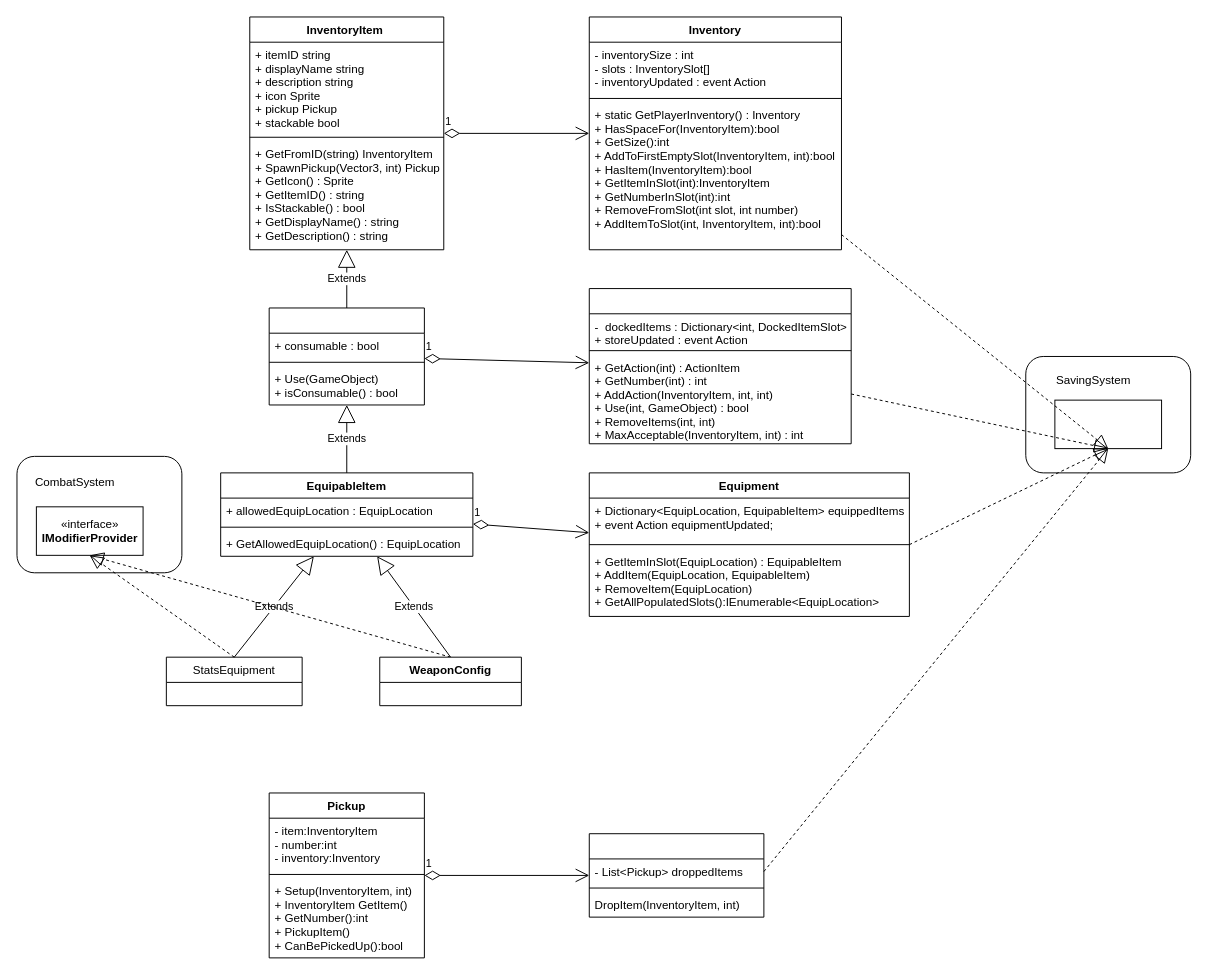
Some shapes in this 1208 by 978 pixel diagram are drawn without their labels. The shapes that lost their labels are listed below. From the top down, each one's box as (x1, y1, x2, y2) in pixels, then its label:
(268, 307, 424, 405): ActionItem
(588, 288, 851, 444): ActionStore
(1054, 399, 1162, 449): «interface» ISaveable
(588, 833, 764, 917): ItemDropper
